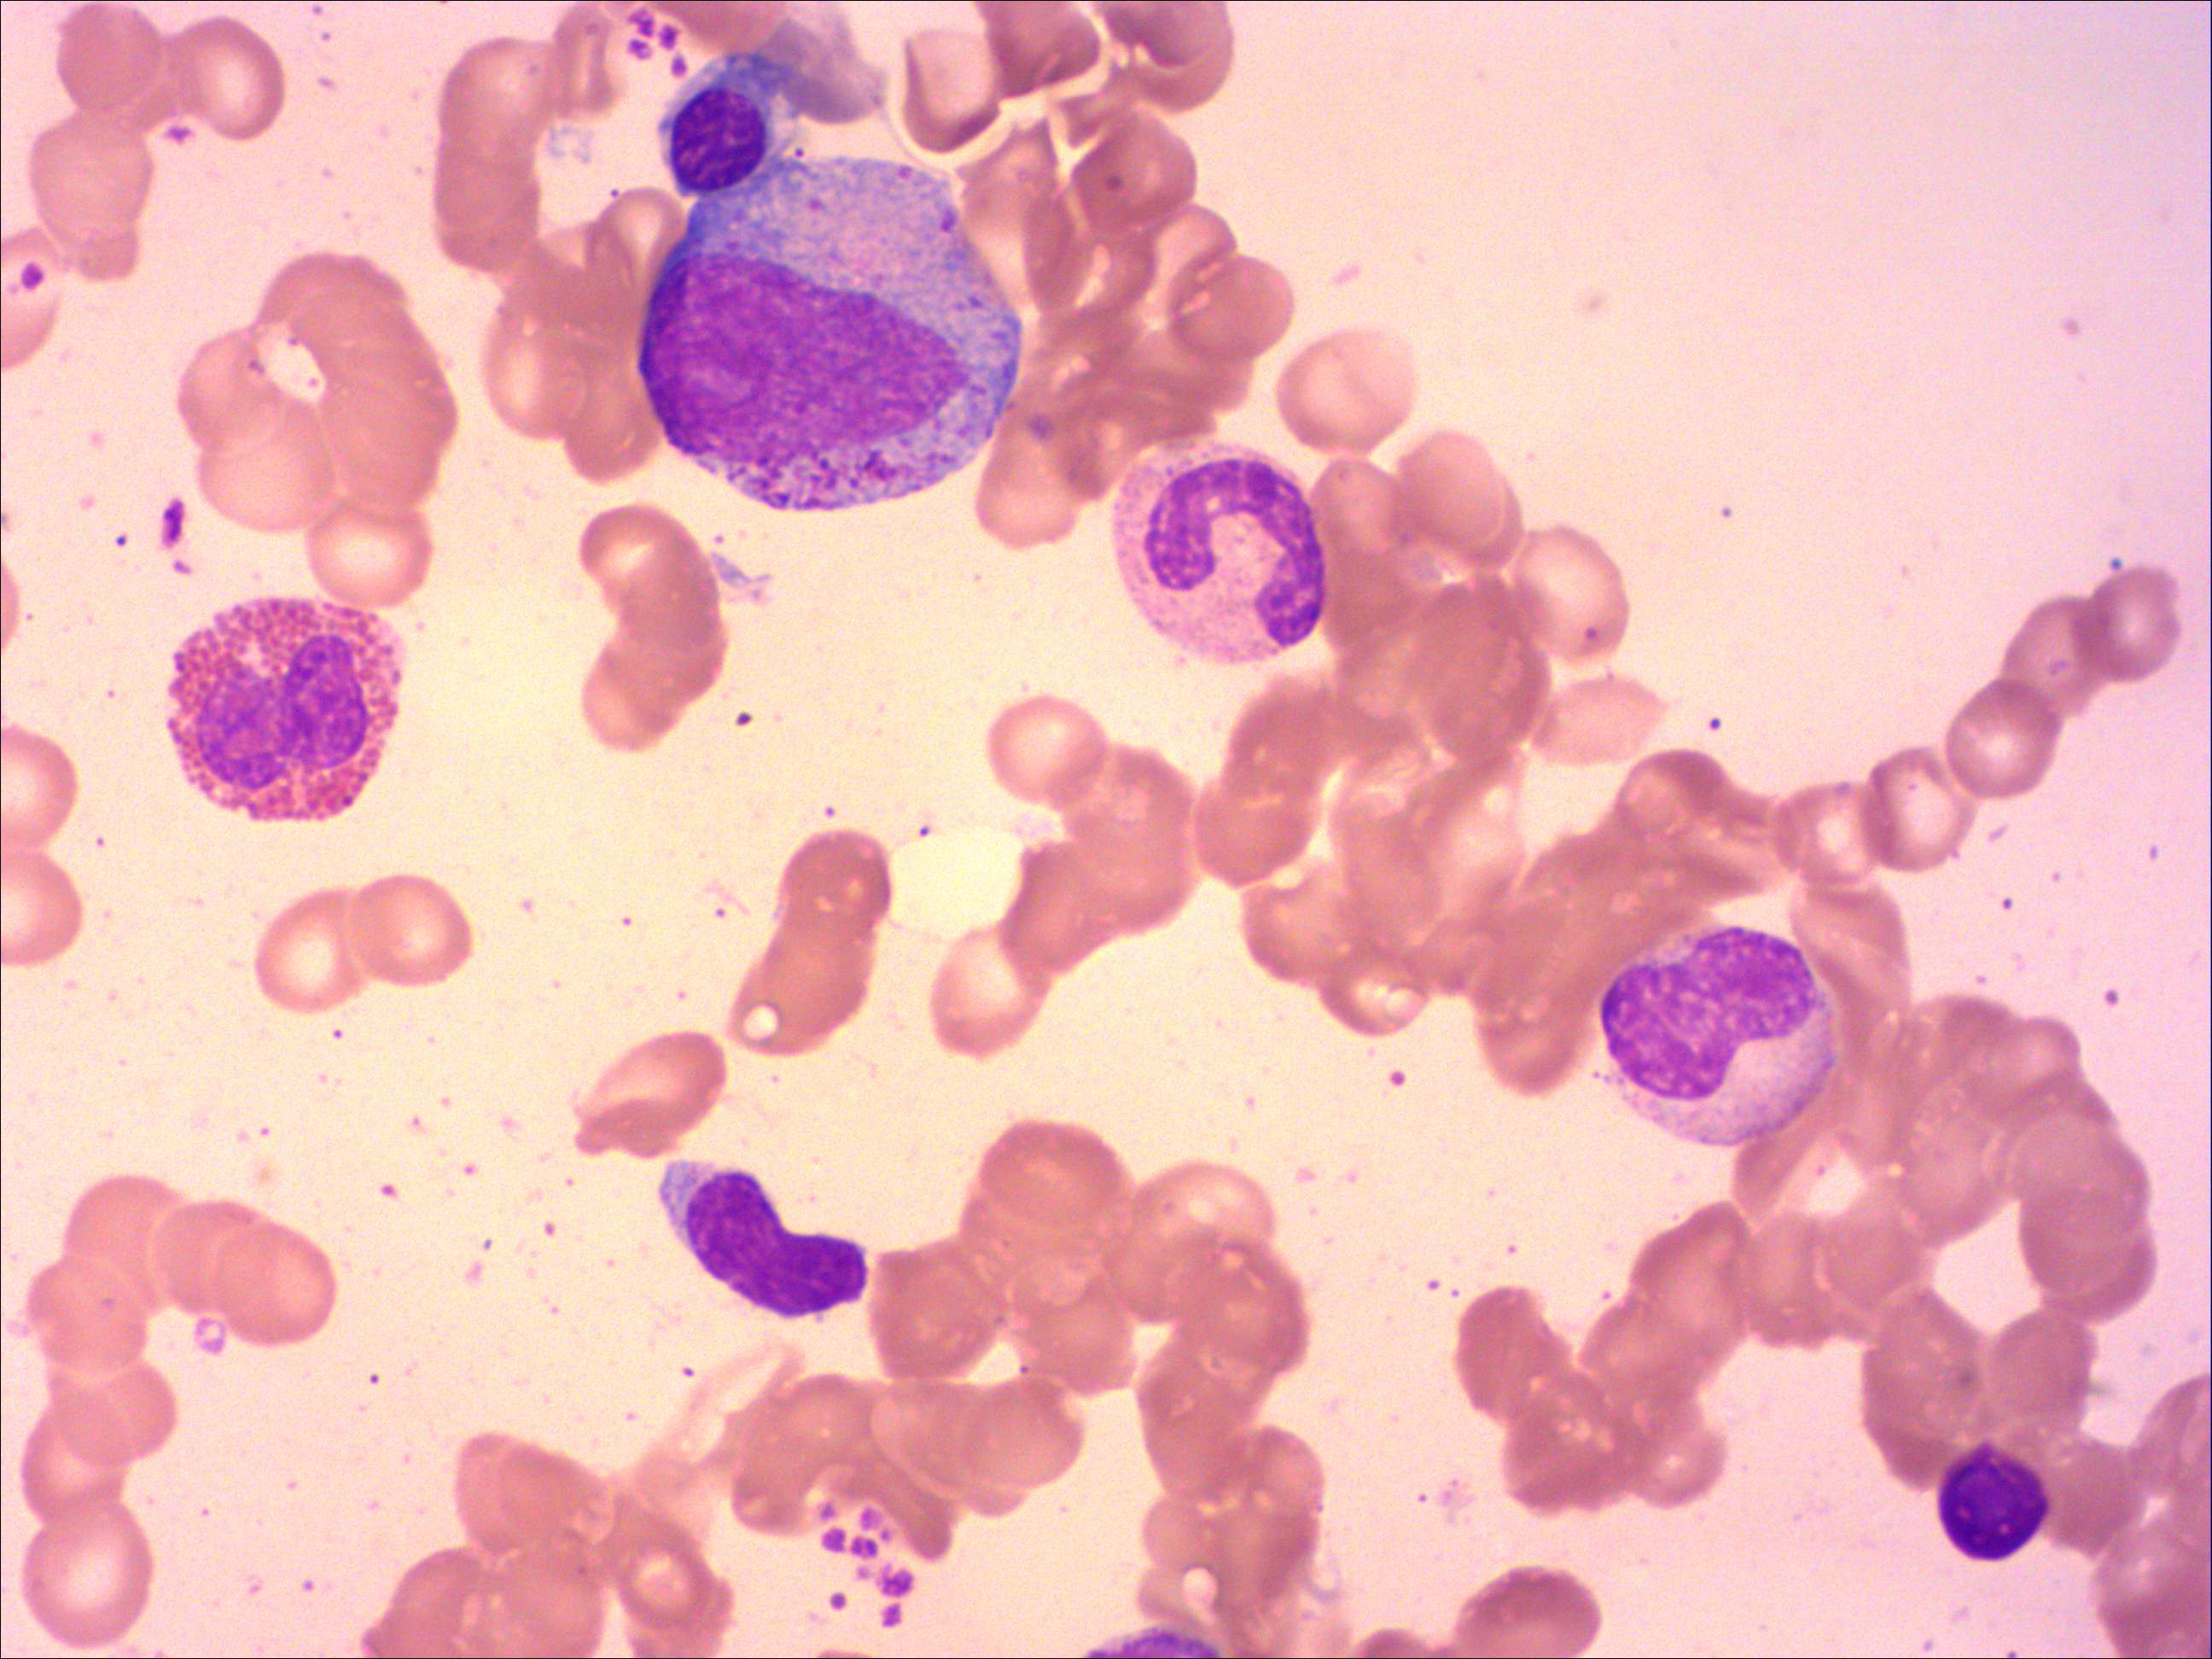2: (629, 146, 1028, 521)
23: (651, 45, 805, 206)
32: (655, 1155, 873, 1324)
4: (1592, 922, 1841, 1152)
5: (1106, 436, 1334, 674)
E4: (158, 589, 413, 833)
x: (1932, 1438, 2055, 1568)
